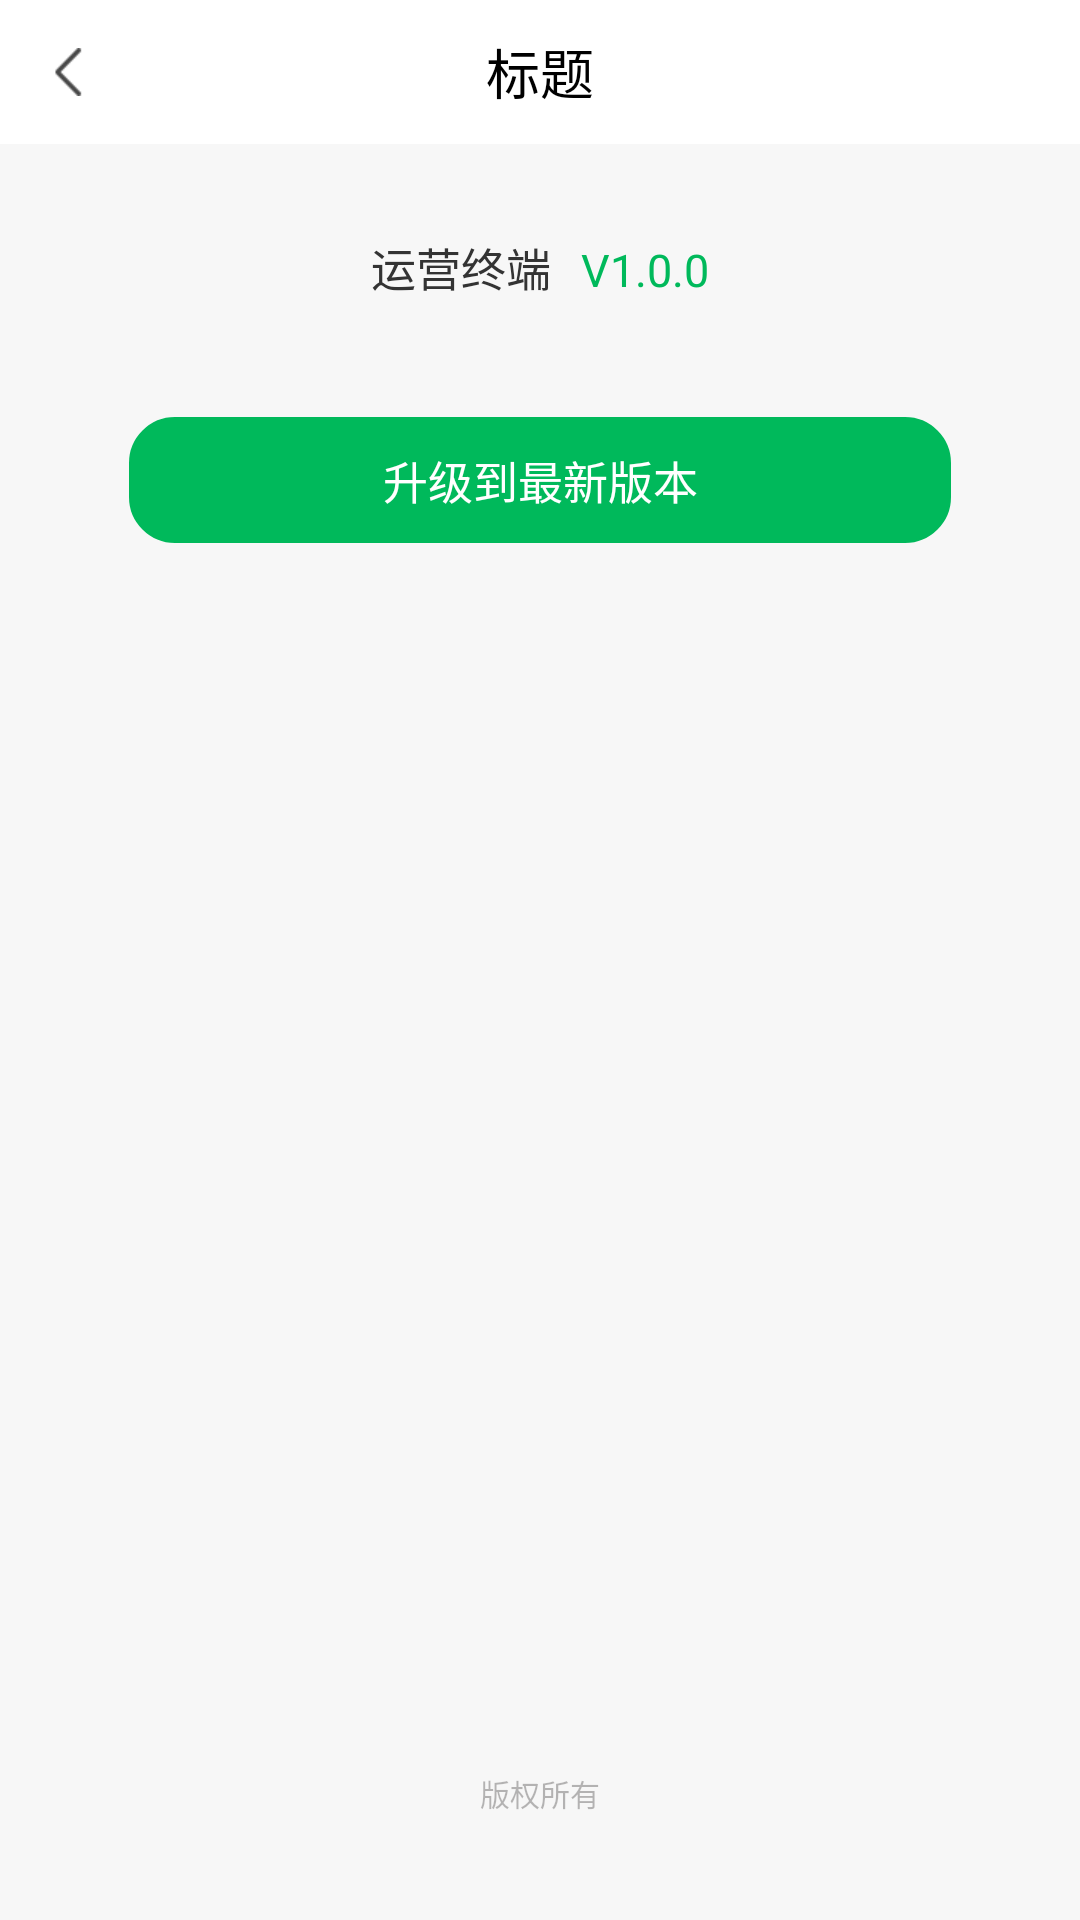

Icons on this 1080 × 1920 Android screen, each with its box as (x1, y1, x2, y2):
back: (55, 48, 82, 96)
